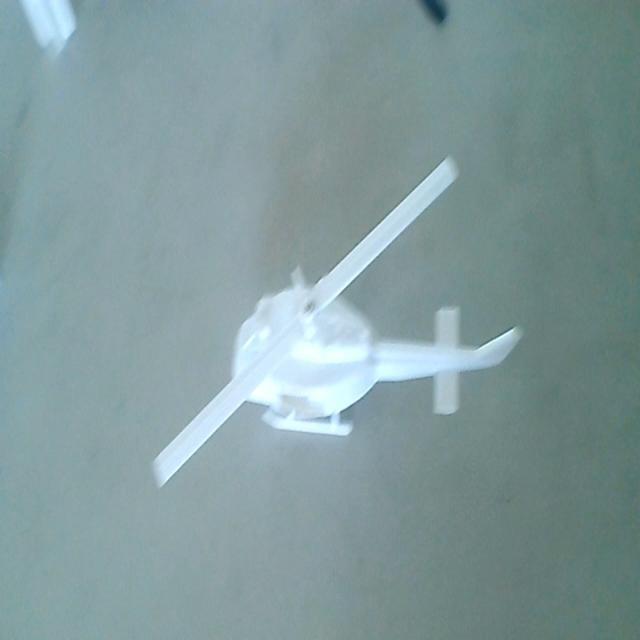Helicopter: (152, 152, 528, 518)
